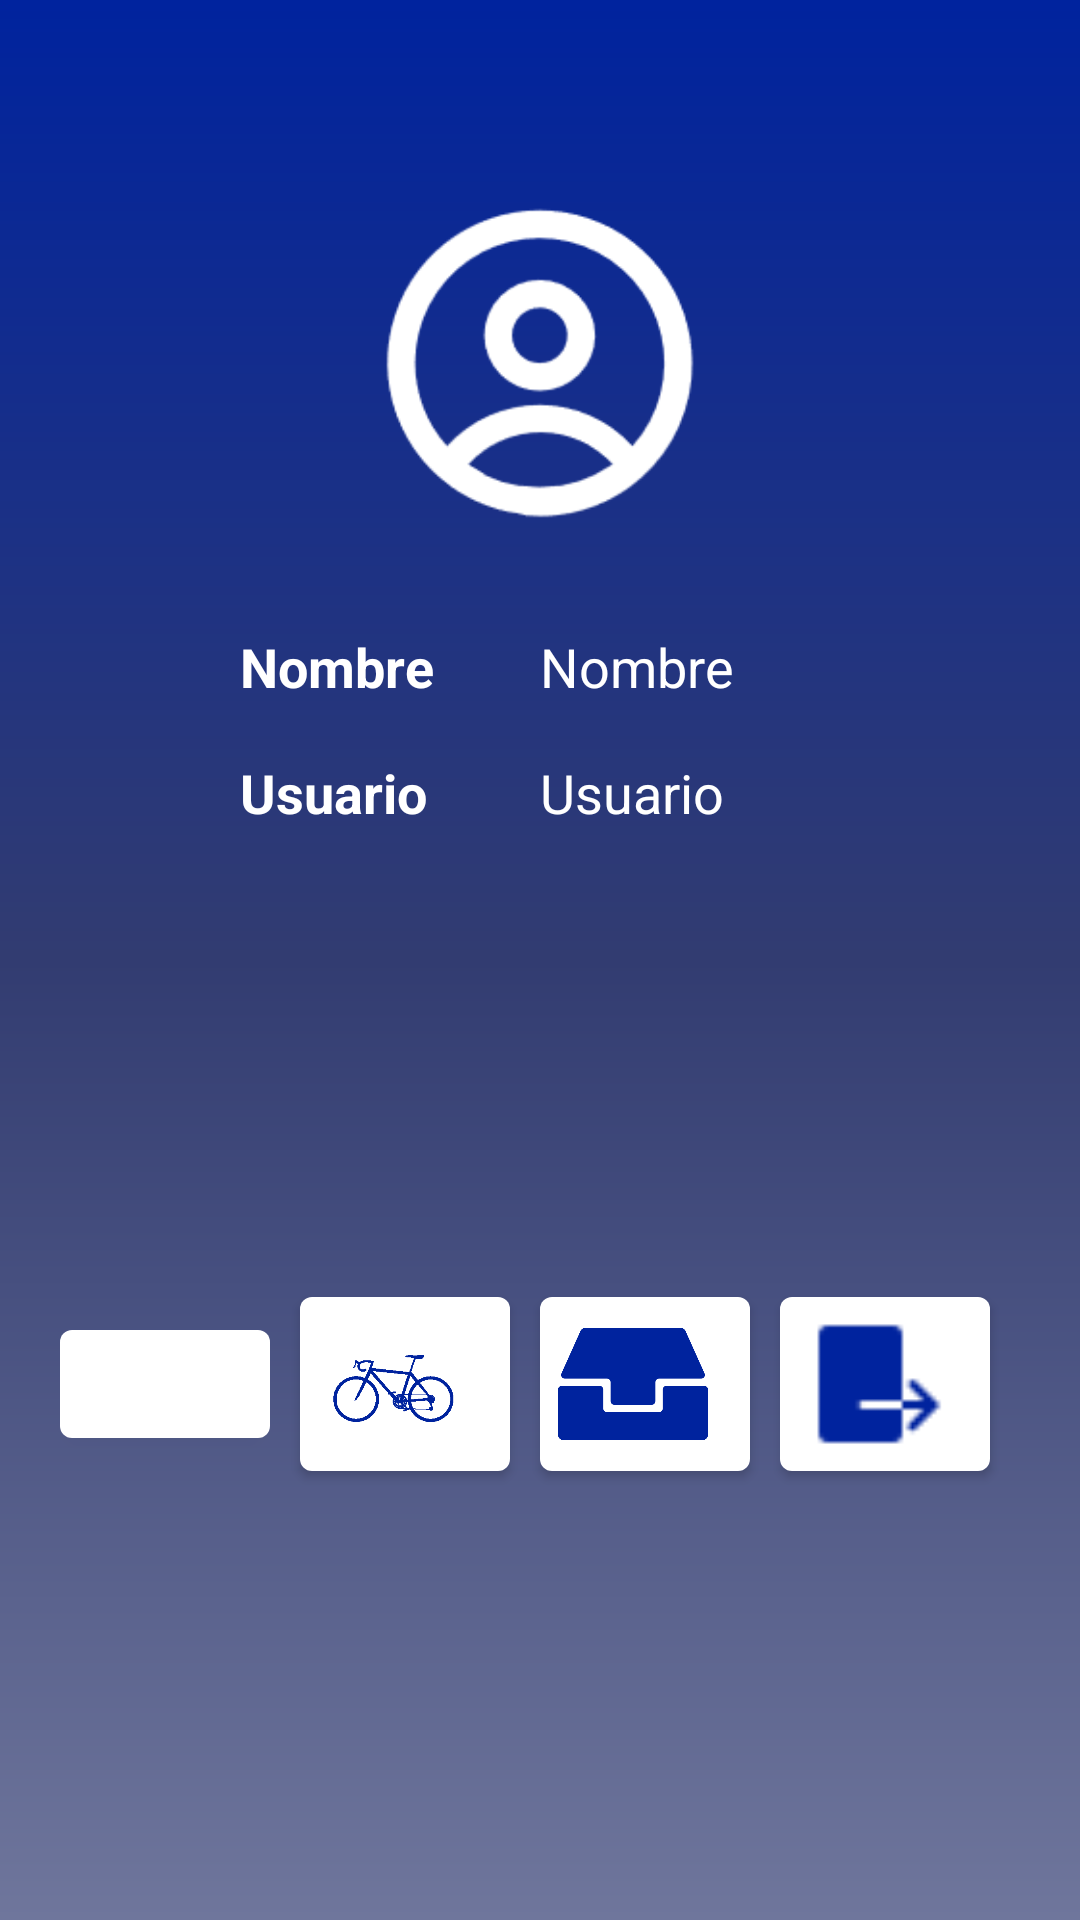

Icons on this 1080w x 1920h Android screen, each with the point to tap as (x=x, y=y):
bike profile: (x=405, y=1384)
cerrar sesion: (x=885, y=1384)
novedades: (x=645, y=1384)
profile: (x=540, y=374)
